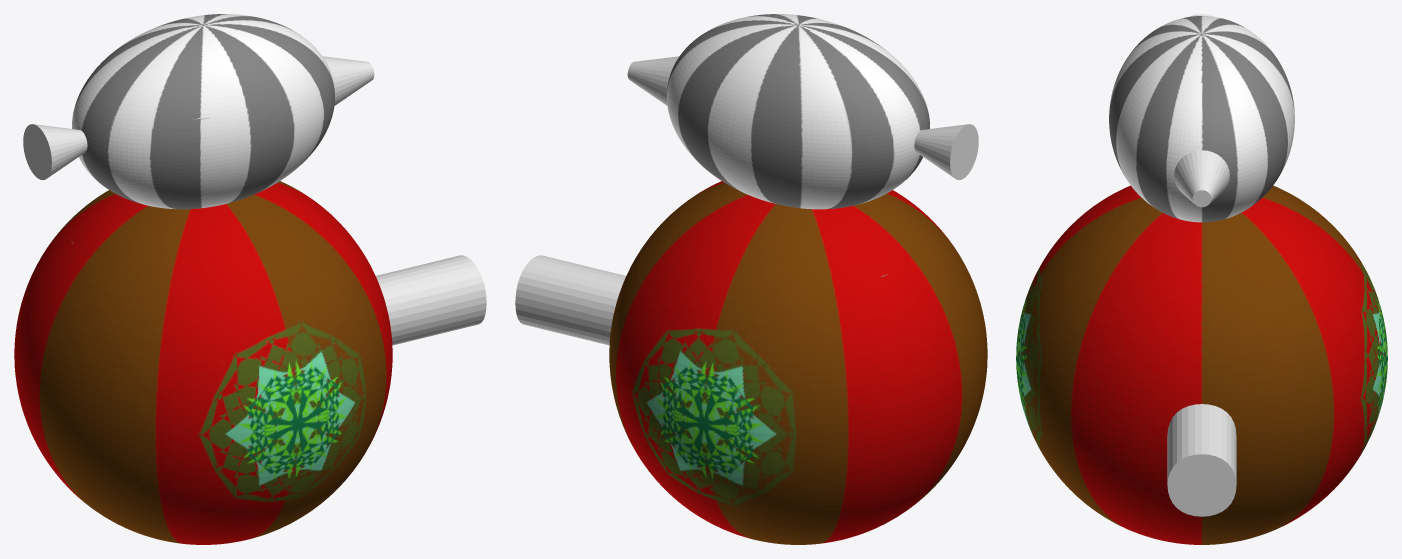
File: BOD0_BMC3_BCC4_BPT2_FRC10_HEA1_HMC2_HCC0_HPT2_ELT3_ERT2_ELL1_ERL1_AP2_AAL0_AAR2_BEK0.fbx
The picture shows the model from 3 angles, left to right: view 1: azimuth 30°, elevation 25°; view 2: azimuth 150°, elevation 25°; view 3: azimuth 270°, elevation 25°; orthographic projection.
Parts seen in each view (by area): view 1: Body, Arm, Ear, Ear.001; view 2: Body, Arm, Ear, Ear.001; view 3: Body, Arm, Ear.001.
Part boxes in pixels (x1,y1,x2,y2): Body: (14,14,392,544); Arm: (376,255,486,345); Ear: (23,124,87,179); Ear.001: (322,56,374,105); Body: (609,14,987,544); Arm: (515,255,625,345); Ear: (914,124,978,179); Ear.001: (627,56,679,105); Body: (1016,16,1387,544); Arm: (1167,404,1236,516); Ear.001: (1174,150,1229,207).
Bounding box in the file's own units: 65 × 72.41 × 49.36.
Materials: 1 (1 with a texture image).
